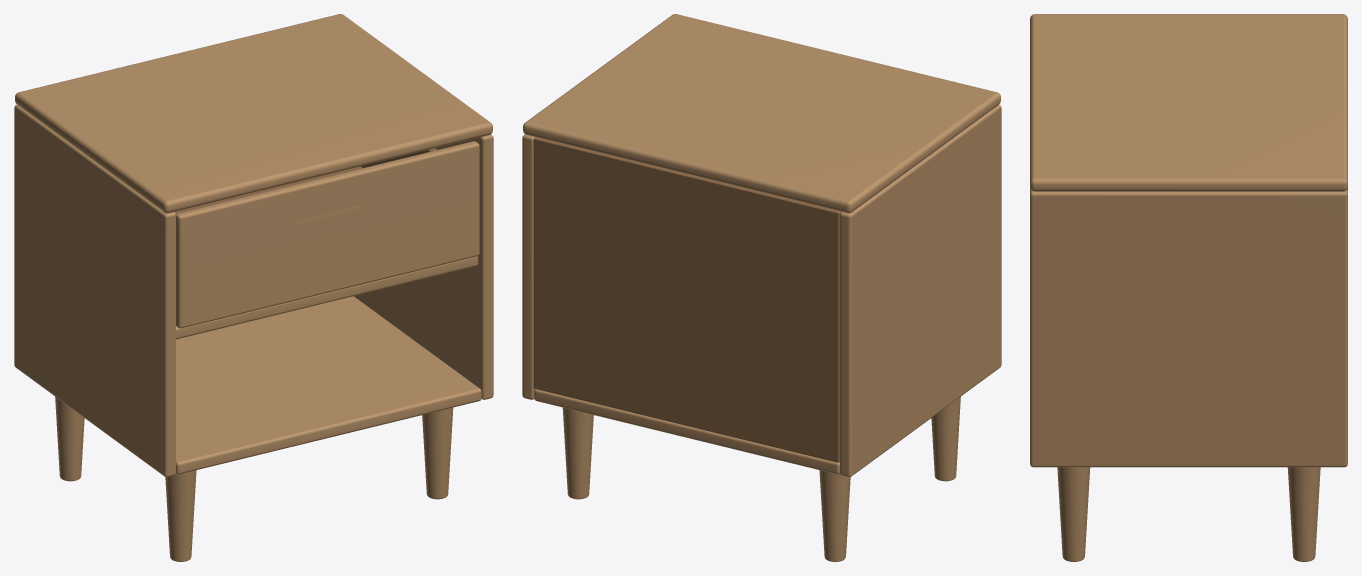
File: nook-nightstand.glb
3 views of the same model, side by side, from view 1: azimuth 30°, elevation 25°; view 2: azimuth 150°, elevation 25°; view 3: azimuth 270°, elevation 25° (orthographic). The views are drawn at different scales.
Visible parts, largest first — view 1: Top, Left_side, Drawer_front, Bottom, Right_side, Drawer_support_shelf, Tapered_leg, Tapered_leg.002, Tapered_leg.001; view 2: Rear_panel, Top, Left_side, Bottom, Right_side, Tapered_leg.001, Tapered_leg.003, Tapered_leg; view 3: Right_side, Top, Tapered_leg.002, Tapered_leg.003.
Boxes of the visible parts, x1=… form: Top: x1=15, y1=14, x2=492, y2=213; Left_side: x1=14, y1=104, x2=175, y2=477; Drawer_front: x1=176, y1=141, x2=479, y2=328; Bottom: x1=176, y1=296, x2=481, y2=474; Right_side: x1=354, y1=134, x2=493, y2=399; Drawer_support_shelf: x1=176, y1=256, x2=478, y2=339; Tapered_leg: x1=165, y1=470, x2=196, y2=561; Tapered_leg.002: x1=422, y1=407, x2=453, y2=499; Tapered_leg.001: x1=55, y1=396, x2=84, y2=481; Rear_panel: x1=533, y1=137, x2=841, y2=462; Top: x1=523, y1=14, x2=1000, y2=213; Left_side: x1=840, y1=104, x2=1001, y2=477; Bottom: x1=534, y1=389, x2=839, y2=474; Right_side: x1=522, y1=134, x2=535, y2=399; Tapered_leg.001: x1=819, y1=470, x2=850, y2=561; Tapered_leg.003: x1=562, y1=407, x2=593, y2=499; Tapered_leg: x1=931, y1=396, x2=960, y2=481; Right_side: x1=1030, y1=190, x2=1347, y2=467; Top: x1=1030, y1=14, x2=1347, y2=191; Tapered_leg.002: x1=1057, y1=467, x2=1090, y2=561; Tapered_leg.003: x1=1287, y1=467, x2=1320, y2=561.
Size of the model in its own units: 0.5 by 0.55 by 0.4.
